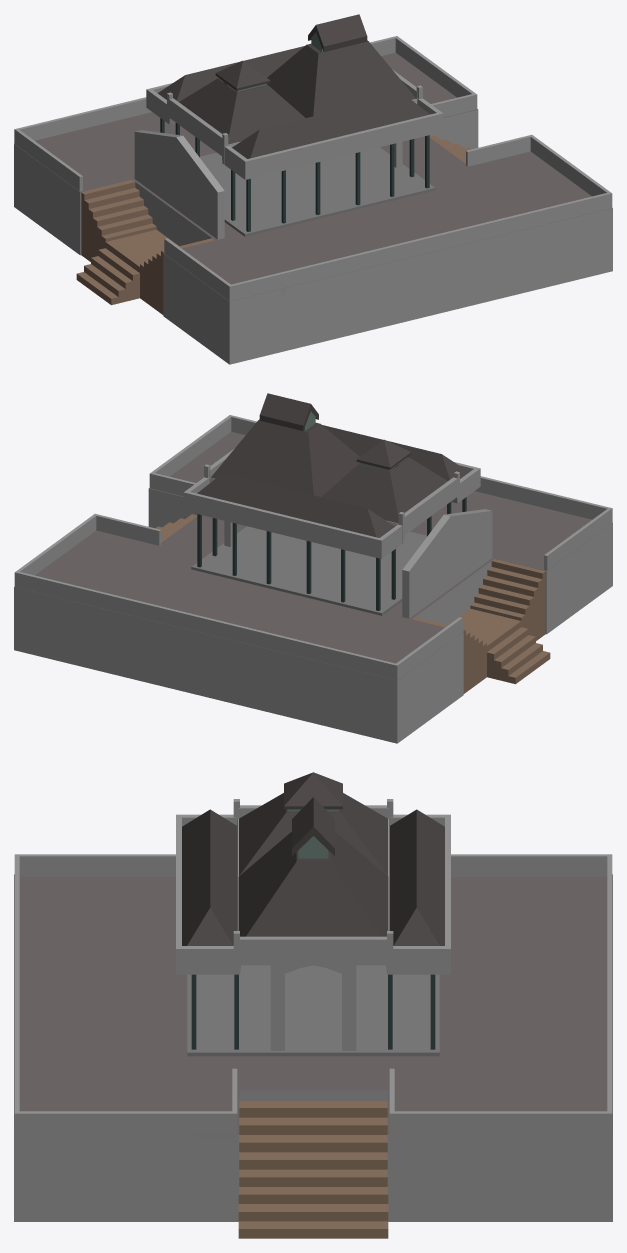
File: B_Sitihinggil.fbx
3 renders of one model, top to bottom at view 1: azimuth 30°, elevation 25°; view 2: azimuth 150°, elevation 25°; view 3: azimuth 270°, elevation 25°, orthographic. The views are drawn at different scales.
Parts seen in each view (by area): view 1: B_Sitihinggil; view 2: B_Sitihinggil; view 3: B_Sitihinggil.
Part boxes in pixels (left/top/right/bottom): B_Sitihinggil: left=14, top=14, right=612, bottom=364; B_Sitihinggil: left=14, top=393, right=612, bottom=743; B_Sitihinggil: left=14, top=772, right=612, bottom=1238.
Size of the model in its own units: 985 by 461 by 844.
Materials: 1 (1 with a texture image).
